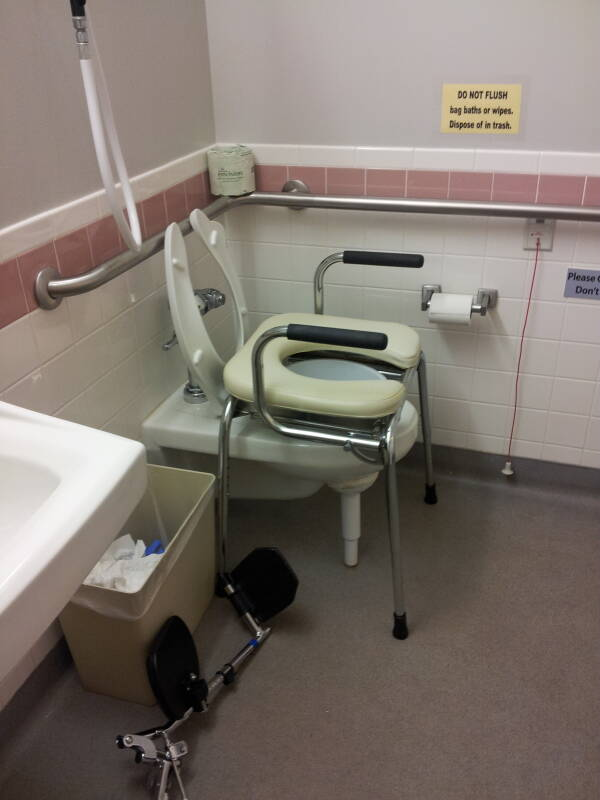dispenser: (414, 278, 498, 327)
restroom_assist_bar: (32, 191, 246, 308), (251, 321, 401, 453), (249, 181, 600, 229), (313, 248, 426, 316)
sink: (1, 394, 146, 679)
toilet: (146, 208, 431, 563)
waste_bin: (62, 462, 219, 708)
